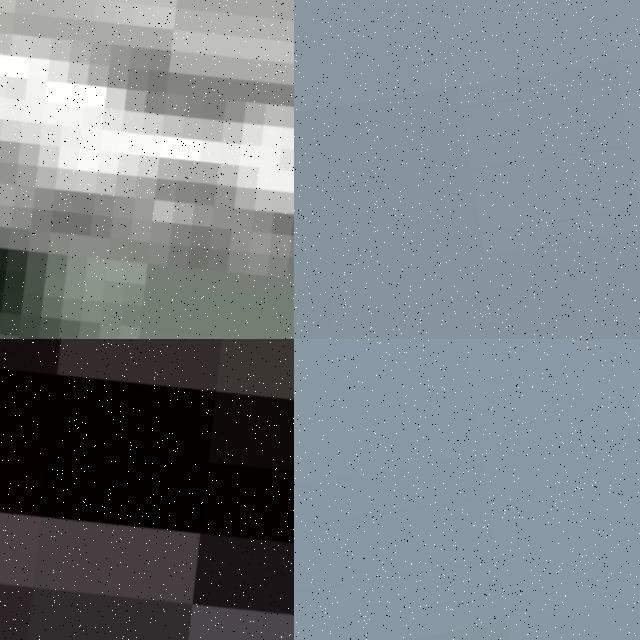0: (0, 0, 294, 339)
drone: (0, 339, 294, 640)
